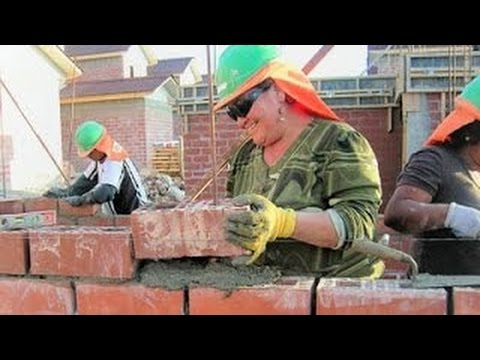casco: (211, 45, 281, 114), (74, 120, 106, 157), (457, 72, 480, 116)
